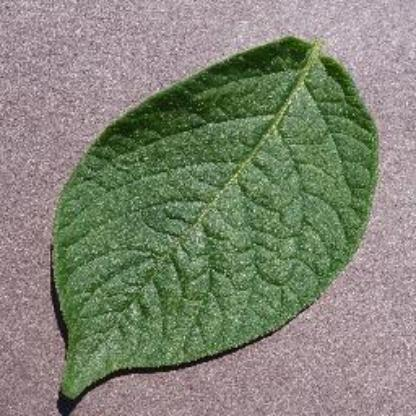Healthy-plant: (47, 29, 390, 409)
